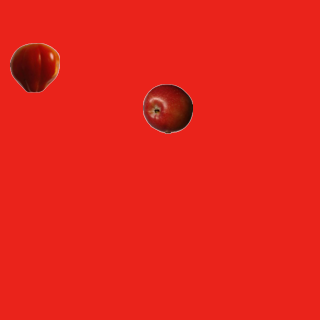Apple Braeburn: (142, 83, 192, 133)
Tomato 1: (9, 42, 59, 92)
